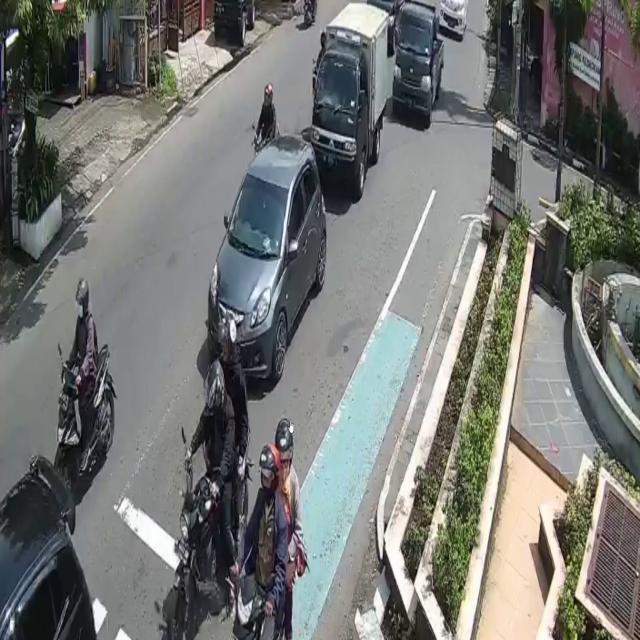car: (207, 132, 327, 378), (393, 1, 443, 128)
motorbike: (56, 344, 114, 494), (172, 468, 218, 640)
truck: (313, 2, 387, 198)
